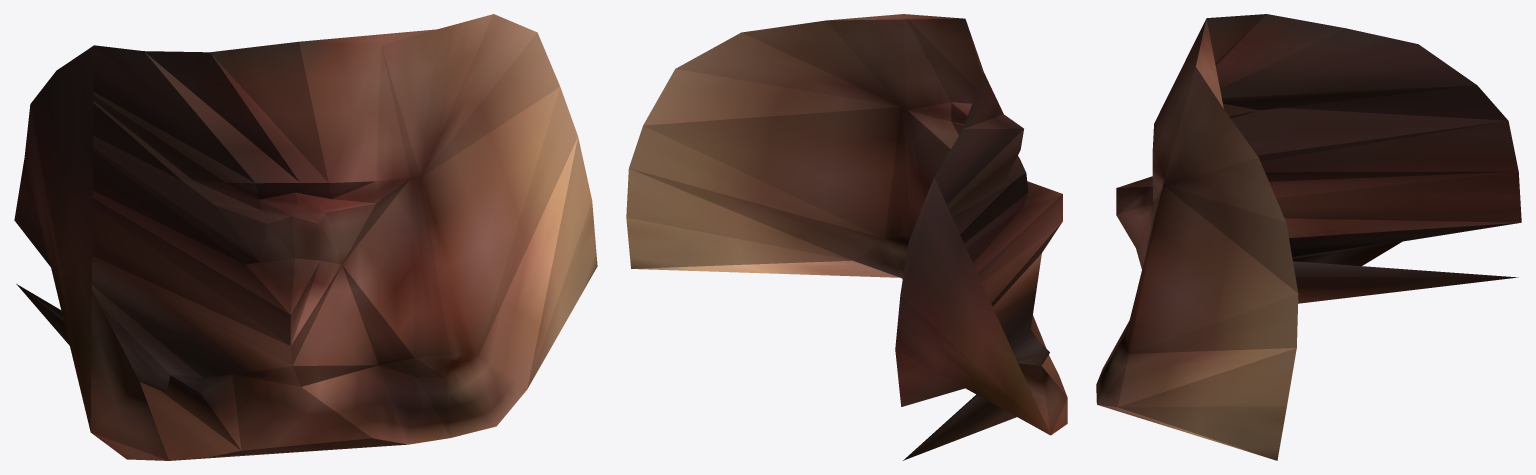
File: real_7177.obj
The picture shows the model from 3 angles, left to right: view 1: azimuth 30°, elevation 25°; view 2: azimuth 150°, elevation 25°; view 3: azimuth 270°, elevation 25°; orthographic projection. The views are drawn at different scales.
Size of the model in its own units: 116 by 91 by 98.68.
